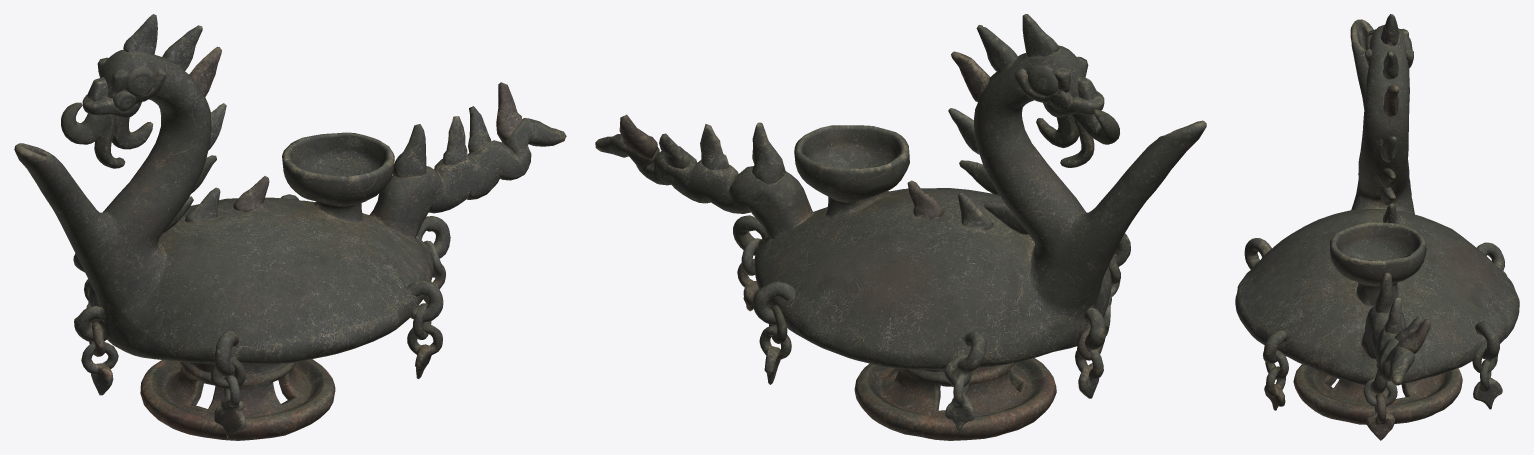
The model's file is beast.glb.
3 renders of one model, left to right at view 1: azimuth 30°, elevation 25°; view 2: azimuth 150°, elevation 25°; view 3: azimuth 270°, elevation 25°, orthographic. The views are drawn at different scales.
Parts seen in each view (by area): view 1: ShillaKettle_01_1_Cage, ShillaKettle_01_3_Cage, ShillaKettle_01_4_Cage, ShillaKettle_01_2_Cage; view 2: ShillaKettle_01_1_Cage, ShillaKettle_01_3_Cage, ShillaKettle_01_4_Cage, ShillaKettle_01_2_Cage; view 3: ShillaKettle_01_1_Cage, ShillaKettle_01_3_Cage, ShillaKettle_01_2_Cage.
Part boxes in pixels (x1,y1,x2,y2): ShillaKettle_01_1_Cage: (14, 14, 566, 440); ShillaKettle_01_3_Cage: (81, 264, 445, 438); ShillaKettle_01_4_Cage: (61, 102, 153, 168); ShillaKettle_01_2_Cage: (89, 240, 442, 388); ShillaKettle_01_1_Cage: (595, 14, 1206, 440); ShillaKettle_01_3_Cage: (737, 259, 1120, 431); ShillaKettle_01_4_Cage: (1036, 109, 1119, 167); ShillaKettle_01_2_Cage: (741, 238, 1120, 386); ShillaKettle_01_1_Cage: (1235, 14, 1519, 424); ShillaKettle_01_3_Cage: (1264, 360, 1502, 440); ShillaKettle_01_2_Cage: (1254, 260, 1507, 406).
Size of the model in its own units: 0.2074 by 0.1402 by 0.1037.
Materials: 1 (1 with a texture image).
